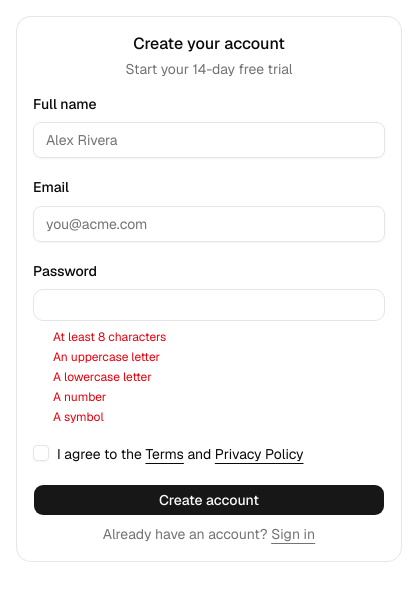
Test case: Register › rates password strength as the user types
The width and height of the screenshot is (419, 603).
In the password field labelled "Password": x=195, y=305 [34,287,357,323], type "Ab1!xyzq"
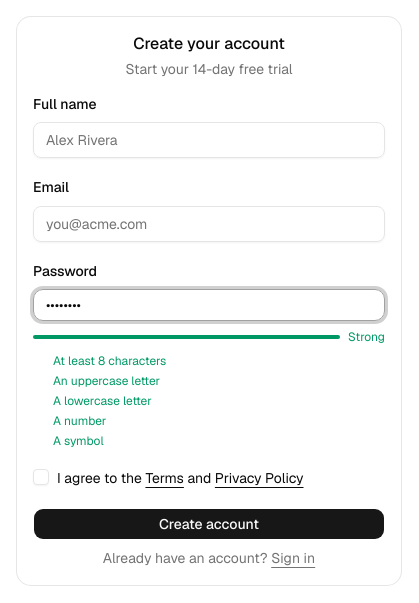
Now the text "Strong" is shown, box [348,329,385,345]
